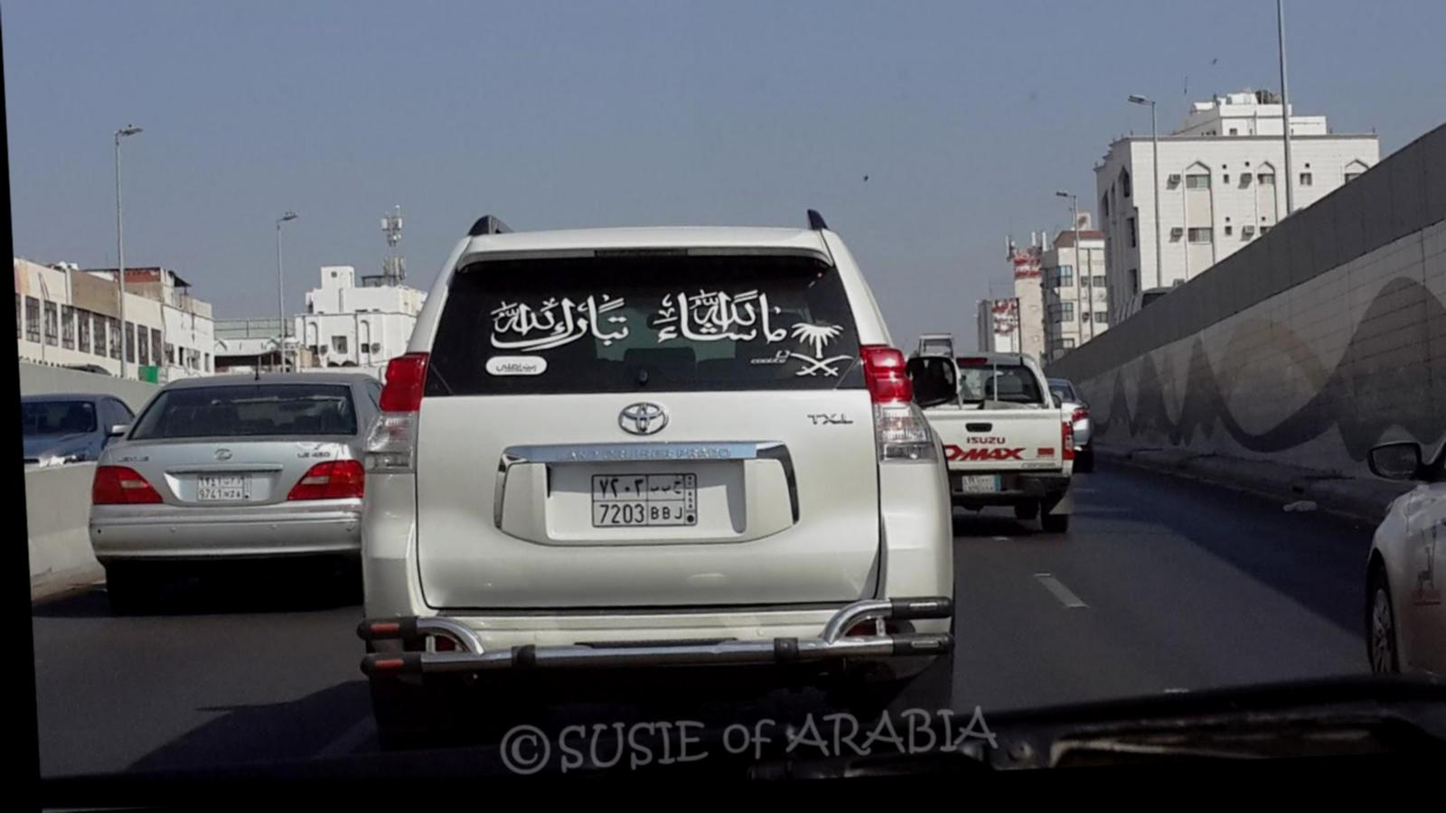License_Plate: (581, 462, 716, 546), (194, 466, 257, 509), (959, 470, 1009, 504)
